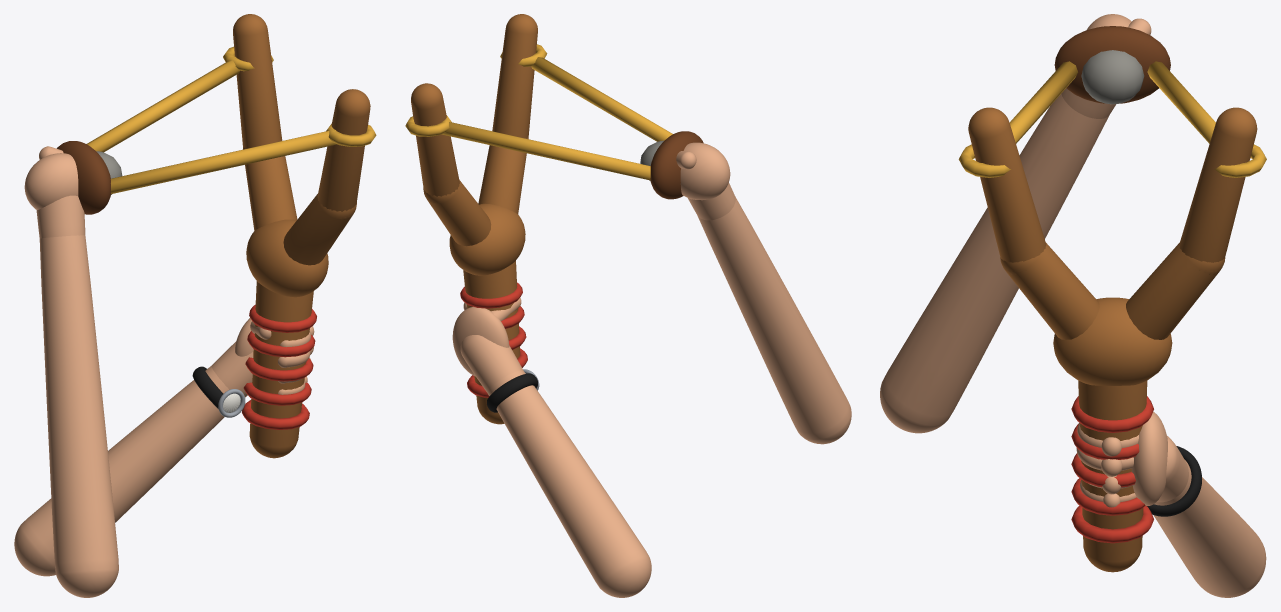
Rendered from katapult.glb.
The picture shows the model from 3 angles, left to right: view 1: azimuth 30°, elevation 25°; view 2: azimuth 150°, elevation 25°; view 3: azimuth 270°, elevation 25°; orthographic projection. The views are drawn at different scales.
Parts seen in each view (by area): view 1: Katapult_Arms, Katapult_Frame, Katapult_Bands, Katapult_Pouch; view 2: Katapult_Arms, Katapult_Frame, Katapult_Bands, Katapult_Pouch; view 3: Katapult_Frame, Katapult_Arms, Katapult_Pouch, Katapult_Bands, Katapult_Stone.
Part boxes in pixels (box(x1,y1,x2,y2)): Katapult_Arms: box(14, 146, 314, 597); Katapult_Frame: box(223, 14, 376, 458); Katapult_Bands: box(86, 60, 336, 194); Katapult_Pouch: box(57, 141, 110, 214); Katapult_Arms: box(452, 142, 851, 597); Katapult_Frame: box(405, 14, 547, 424); Katapult_Bands: box(442, 57, 672, 180); Katapult_Pouch: box(650, 131, 703, 199); Katapult_Frame: box(958, 107, 1266, 572); Katapult_Arms: box(880, 14, 1266, 597); Katapult_Pouch: box(1054, 26, 1170, 103); Katapult_Bands: box(1009, 61, 1215, 143); Katapult_Stone: box(1081, 50, 1144, 104).
Bounding box in the file's own units: 0.5413 × 0.7595 × 0.4392.
